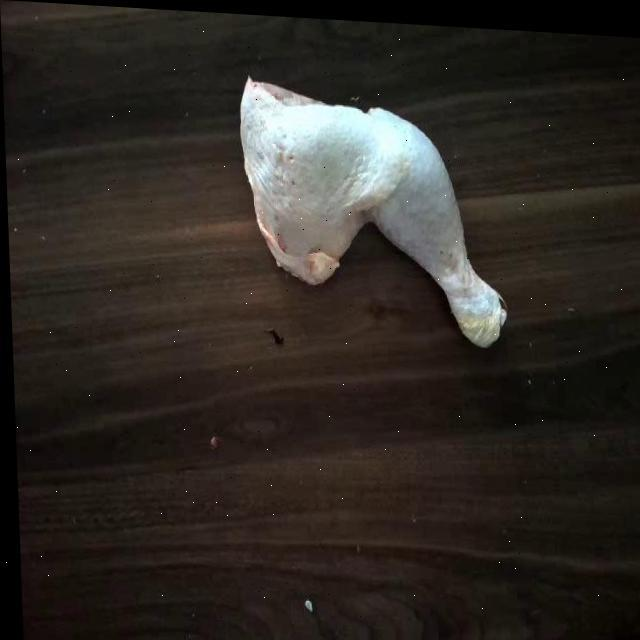quater: (238, 67, 502, 352)
